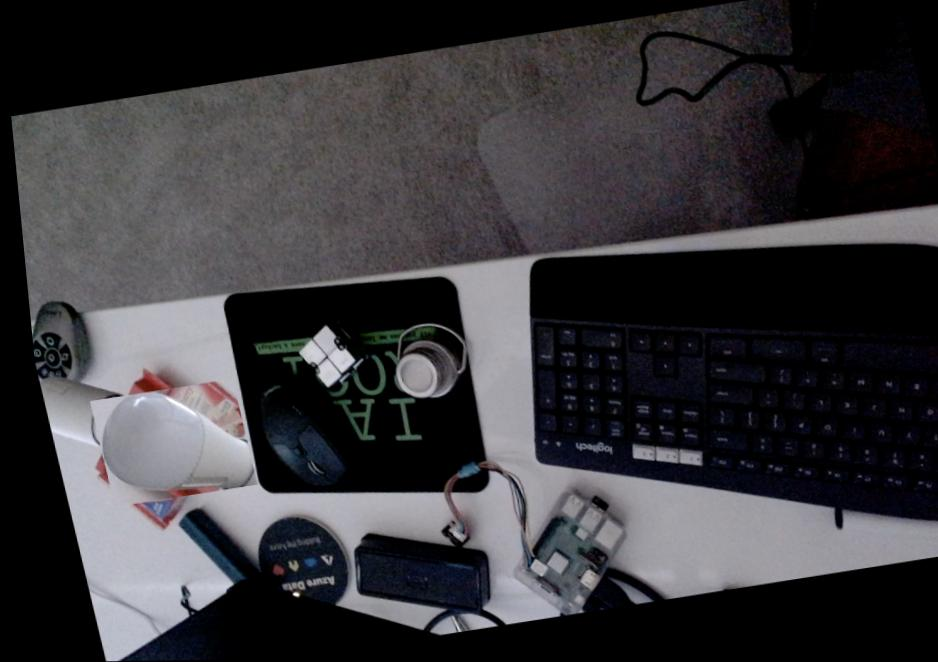Fan: (79, 379, 250, 508)
